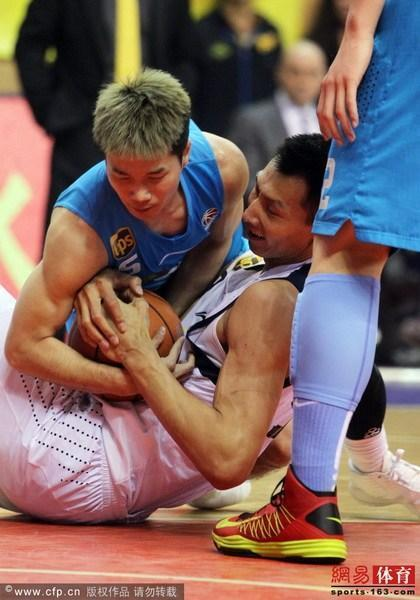Fall-Detected: (0, 41, 399, 545)
